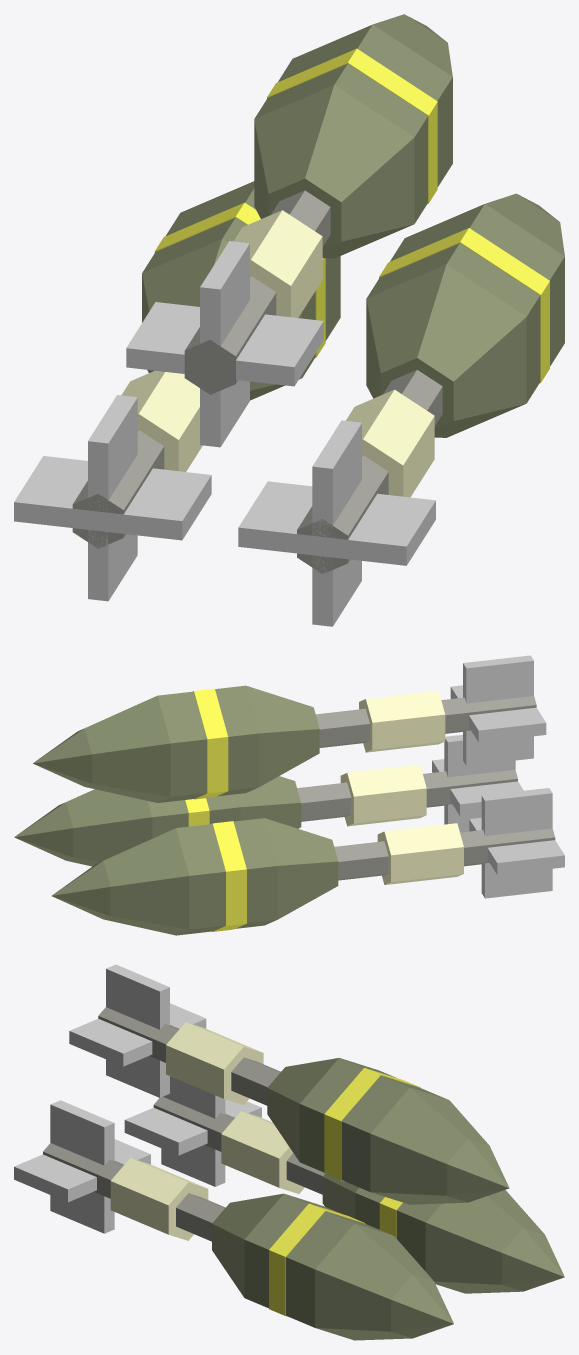
The model's file is ce_ammo_mortar_he_b.obj.
3 renders of one model, top to bottom at view 1: azimuth 30°, elevation 25°; view 2: azimuth 150°, elevation 25°; view 3: azimuth 270°, elevation 25°, orthographic. The views are drawn at different scales.
Visible parts, largest first — view 1: ce_ammo_mortar_he_b_12, ce_ammo_mortar_he_b_22, ce_ammo_mortar_he_b_18, ce_ammo_mortar_he_b_8, ce_ammo_mortar_he_b_28, ce_ammo_mortar_he_b_19, ce_ammo_mortar_he_b_9, ce_ammo_mortar_he_b_29, ce_ammo_mortar_he_b_21, ce_ammo_mortar_he_b_11, ce_ammo_mortar_he_b_20, ce_ammo_mortar_he_b_25 (+14 smaller); view 2: ce_ammo_mortar_he_b_6, ce_ammo_mortar_he_b_26, ce_ammo_mortar_he_b_16, ce_ammo_mortar_he_b_9, ce_ammo_mortar_he_b_29, ce_ammo_mortar_he_b_22, ce_ammo_mortar_he_b_2, ce_ammo_mortar_he_b_21, ce_ammo_mortar_he_b_1, ce_ammo_mortar_he_b_11, ce_ammo_mortar_he_b_25, ce_ammo_mortar_he_b_5 (+18 smaller); view 3: ce_ammo_mortar_he_b_26, ce_ammo_mortar_he_b_16, ce_ammo_mortar_he_b_6, ce_ammo_mortar_he_b_19, ce_ammo_mortar_he_b_29, ce_ammo_mortar_he_b_11, ce_ammo_mortar_he_b_21, ce_ammo_mortar_he_b_1, ce_ammo_mortar_he_b_25, ce_ammo_mortar_he_b_15, ce_ammo_mortar_he_b_23, ce_ammo_mortar_he_b_13 (+18 smaller).
Part boxes in pixels (x1,y1,x2,y2): ce_ammo_mortar_he_b_12: [366, 264, 526, 437]; ce_ammo_mortar_he_b_22: [254, 85, 414, 258]; ce_ammo_mortar_he_b_18: [238, 481, 435, 565]; ce_ammo_mortar_he_b_8: [14, 456, 211, 540]; ce_ammo_mortar_he_b_28: [126, 302, 323, 386]; ce_ammo_mortar_he_b_19: [312, 420, 361, 626]; ce_ammo_mortar_he_b_9: [88, 395, 137, 601]; ce_ammo_mortar_he_b_29: [200, 241, 249, 447]; ce_ammo_mortar_he_b_21: [233, 210, 322, 317]; ce_ammo_mortar_he_b_11: [346, 389, 434, 497]; ce_ammo_mortar_he_b_20: [184, 190, 330, 394]; ce_ammo_mortar_he_b_25: [278, 24, 452, 186]; ce_ammo_mortar_he_b_6: [103, 828, 189, 935]; ce_ammo_mortar_he_b_26: [84, 695, 170, 802]; ce_ammo_mortar_he_b_16: [66, 789, 152, 866]; ce_ammo_mortar_he_b_9: [481, 788, 552, 898]; ce_ammo_mortar_he_b_29: [463, 655, 533, 765]; ce_ammo_mortar_he_b_22: [246, 685, 319, 786]; ce_ammo_mortar_he_b_2: [264, 818, 338, 919]; ce_ammo_mortar_he_b_21: [359, 690, 445, 752]; ce_ammo_mortar_he_b_1: [377, 823, 463, 884]; ce_ammo_mortar_he_b_11: [340, 764, 426, 826]; ce_ammo_mortar_he_b_25: [157, 691, 207, 802]; ce_ammo_mortar_he_b_5: [176, 824, 225, 935]; ce_ammo_mortar_he_b_26: [370, 1087, 489, 1204]; ce_ammo_mortar_he_b_16: [315, 1223, 433, 1340]; ce_ammo_mortar_he_b_6: [425, 1190, 544, 1293]; ce_ammo_mortar_he_b_19: [50, 1100, 114, 1233]; ce_ammo_mortar_he_b_29: [106, 964, 169, 1097]; ce_ammo_mortar_he_b_11: [110, 1158, 208, 1240]; ce_ammo_mortar_he_b_21: [166, 1022, 263, 1104]; ce_ammo_mortar_he_b_1: [221, 1111, 304, 1193]; ce_ammo_mortar_he_b_25: [341, 1075, 447, 1191]; ce_ammo_mortar_he_b_15: [286, 1211, 392, 1327]; ce_ammo_mortar_he_b_23: [299, 1058, 396, 1172]; ce_ammo_mortar_he_b_13: [244, 1193, 340, 1308].
Size of the model in its own units: 0.8443 by 0.39 by 0.8443.
